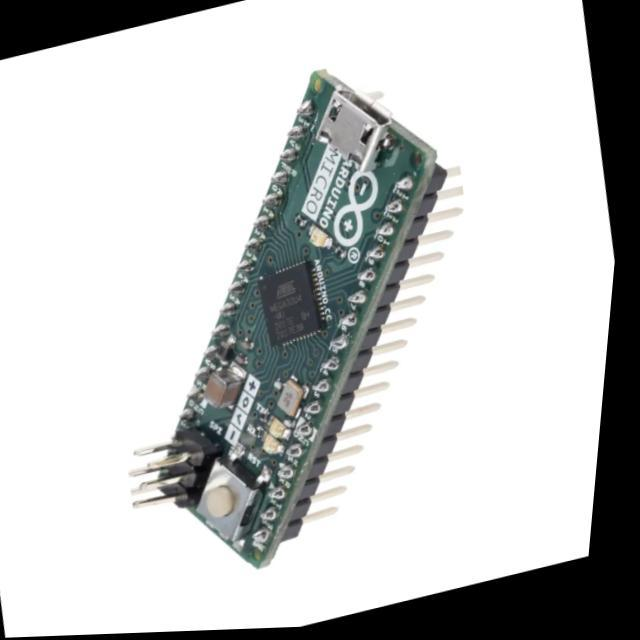Arduino-Micro: (139, 71, 445, 567), (230, 288, 236, 293)
